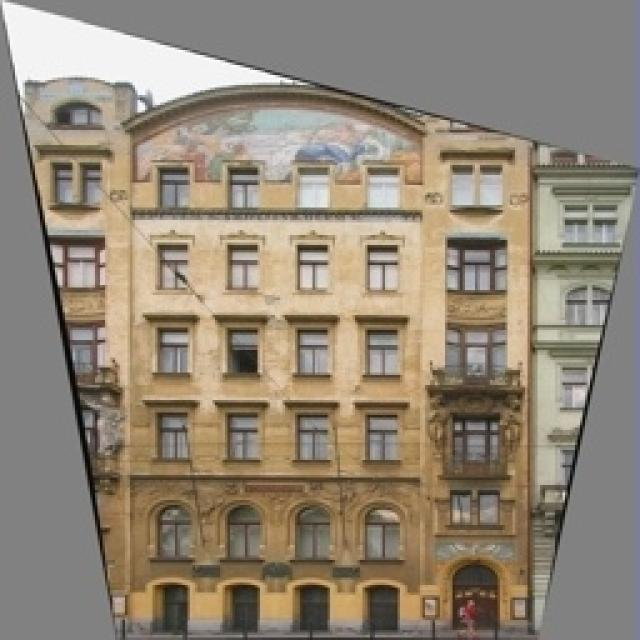building: (20, 70, 545, 640)
